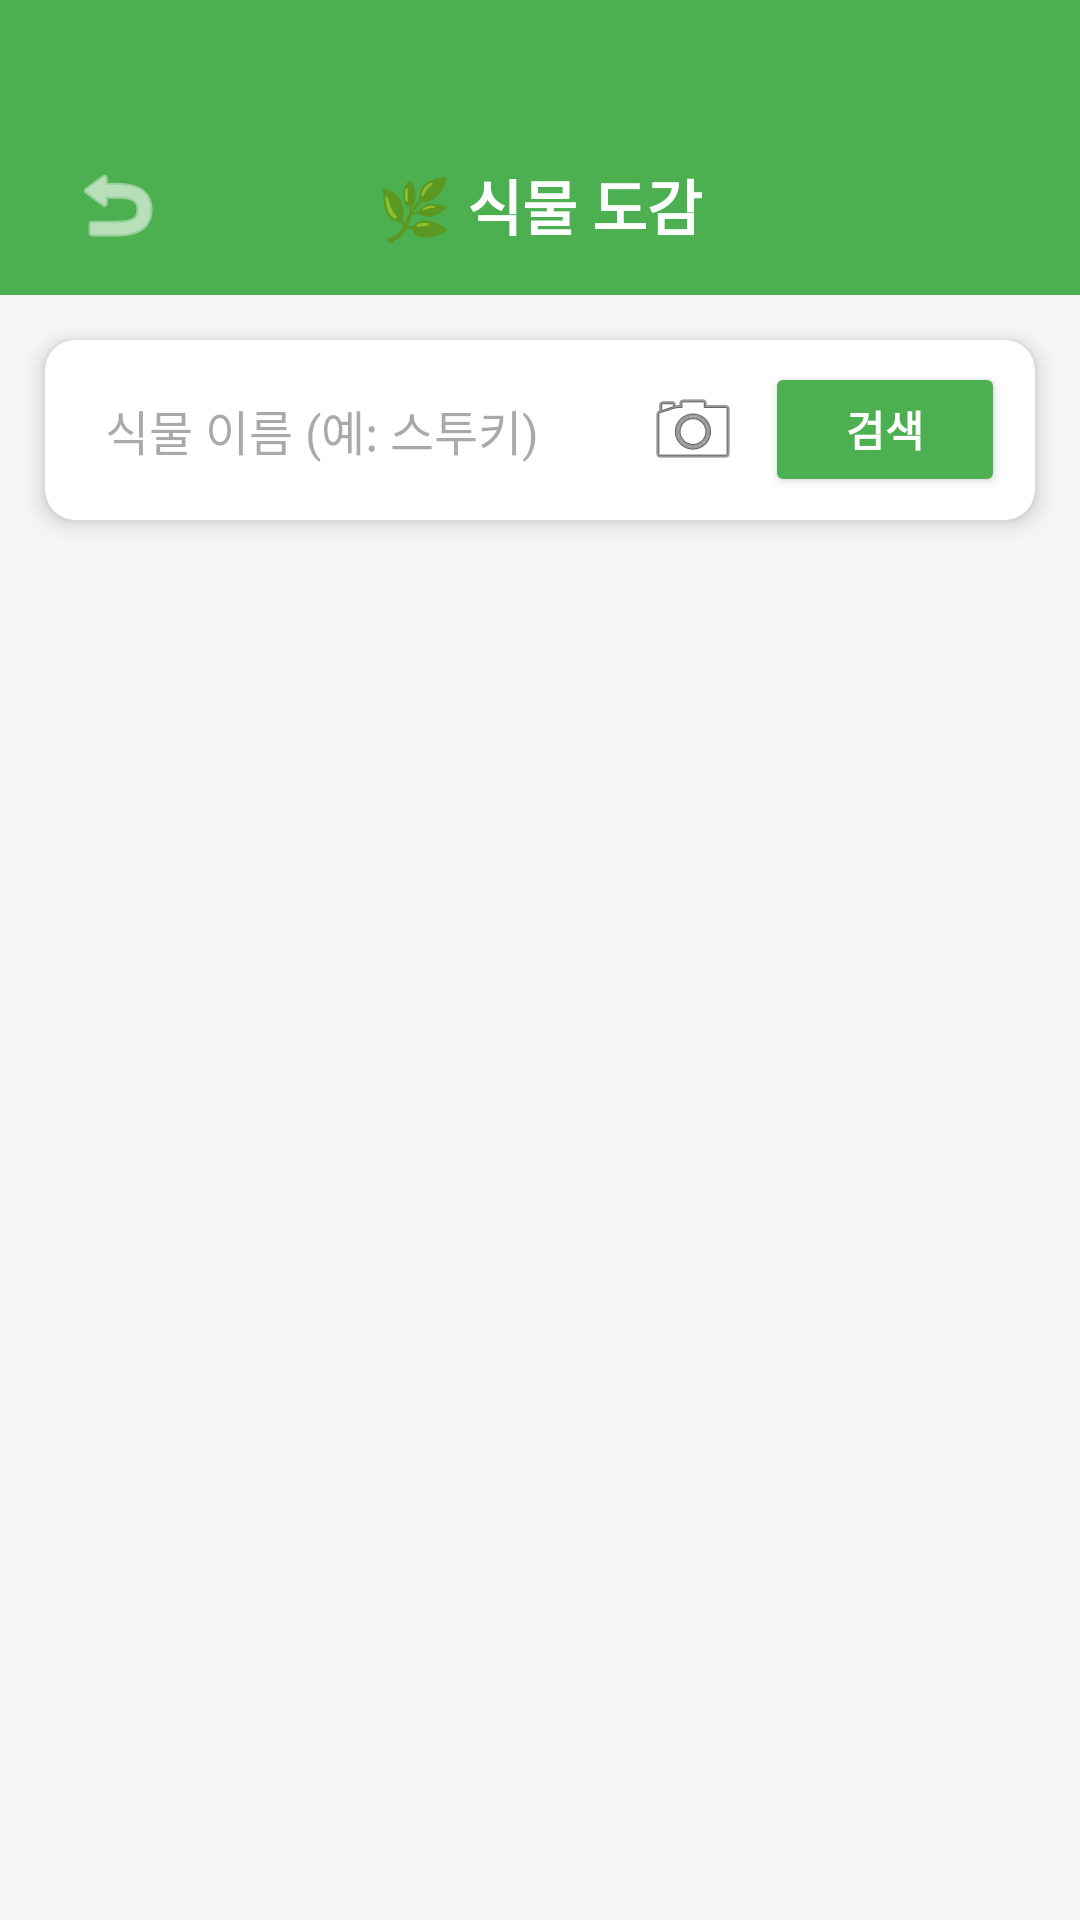

Screen size 1080 × 1920. Icon name, then its box in pixels as (x1, y1, x2, y2):
뒤로가기: (84, 174, 153, 237)
